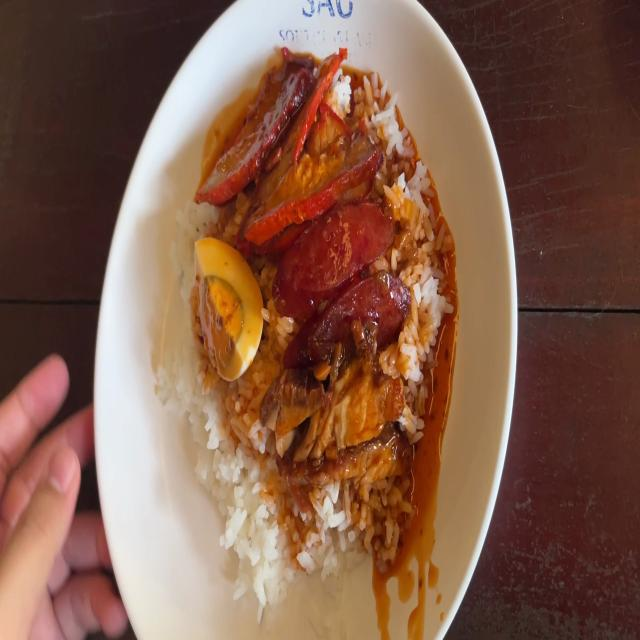01boiled_egg: (192, 249, 260, 359)
01chainese_sausage: (279, 210, 398, 344)
01crispy_pork: (276, 365, 410, 474)
01red_pork: (206, 60, 383, 216)
01red_pork_and_crispy_pork: (176, 75, 449, 560)
01rice: (240, 486, 398, 596), (171, 379, 268, 546)
